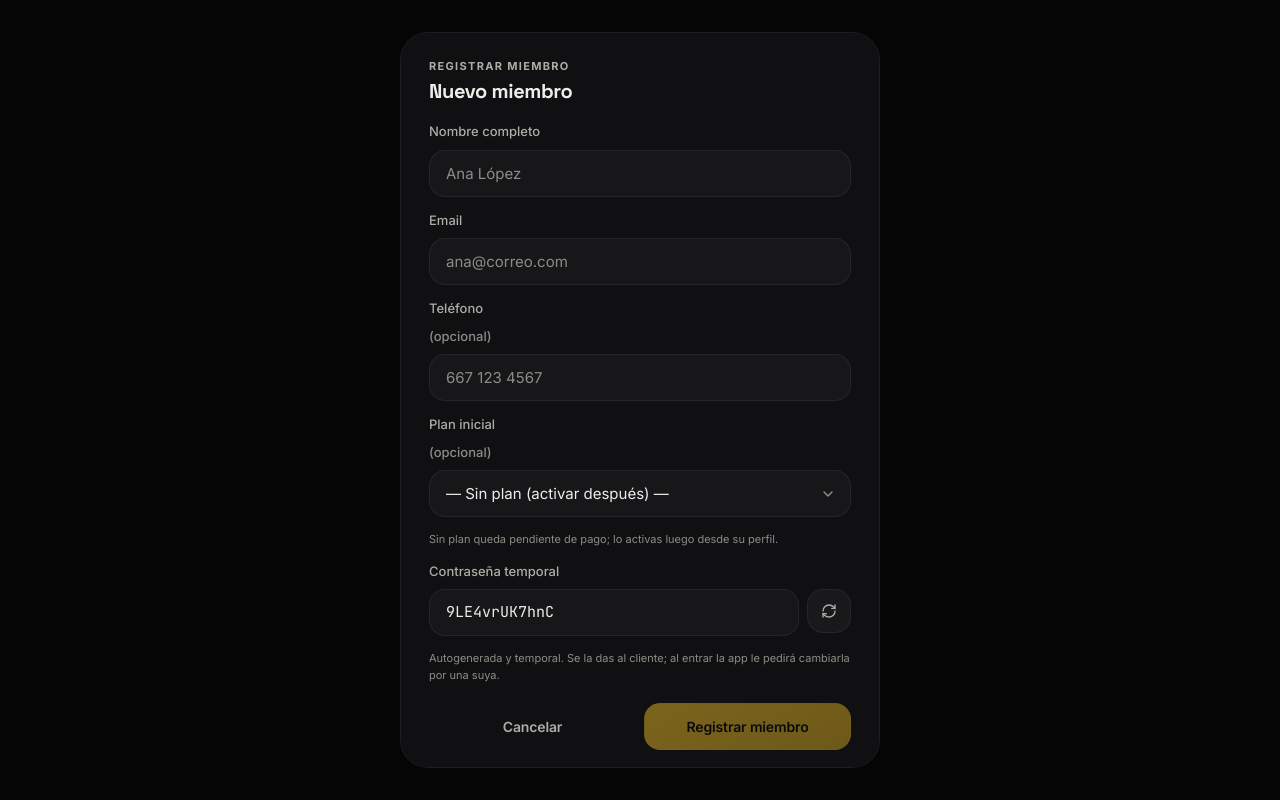
Test: RegistrarMiembroModal · wiring › submit deshabilitado hasta que nombre, email y password sean válidos
Expected: the button "Registrar miembro" is disabled, left=644, top=703, right=851, bottom=750
Type "A" into the field labelled "Nombre completo" at [640, 173], box left=429, top=150, right=851, bottom=196
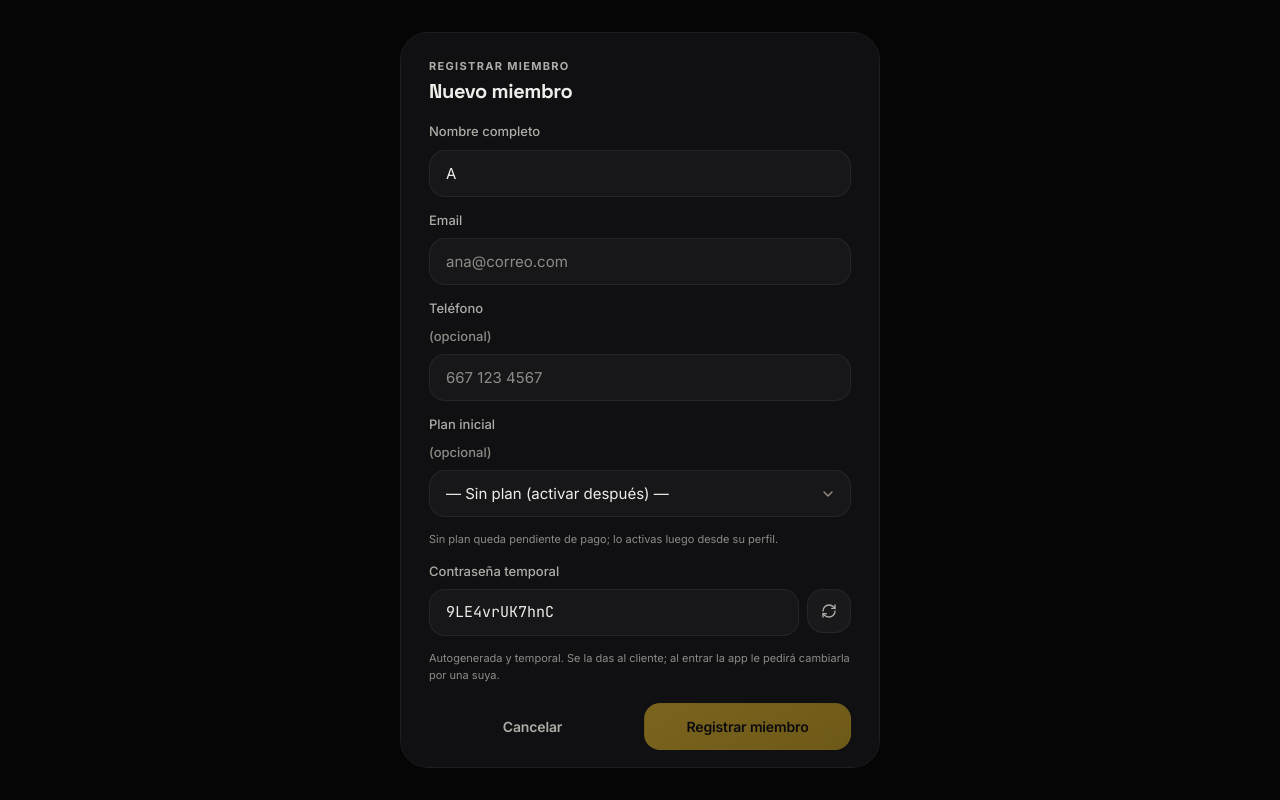
Type "correo-malo" into the field labelled "Email" at [640, 262], box left=429, top=238, right=851, bottom=285
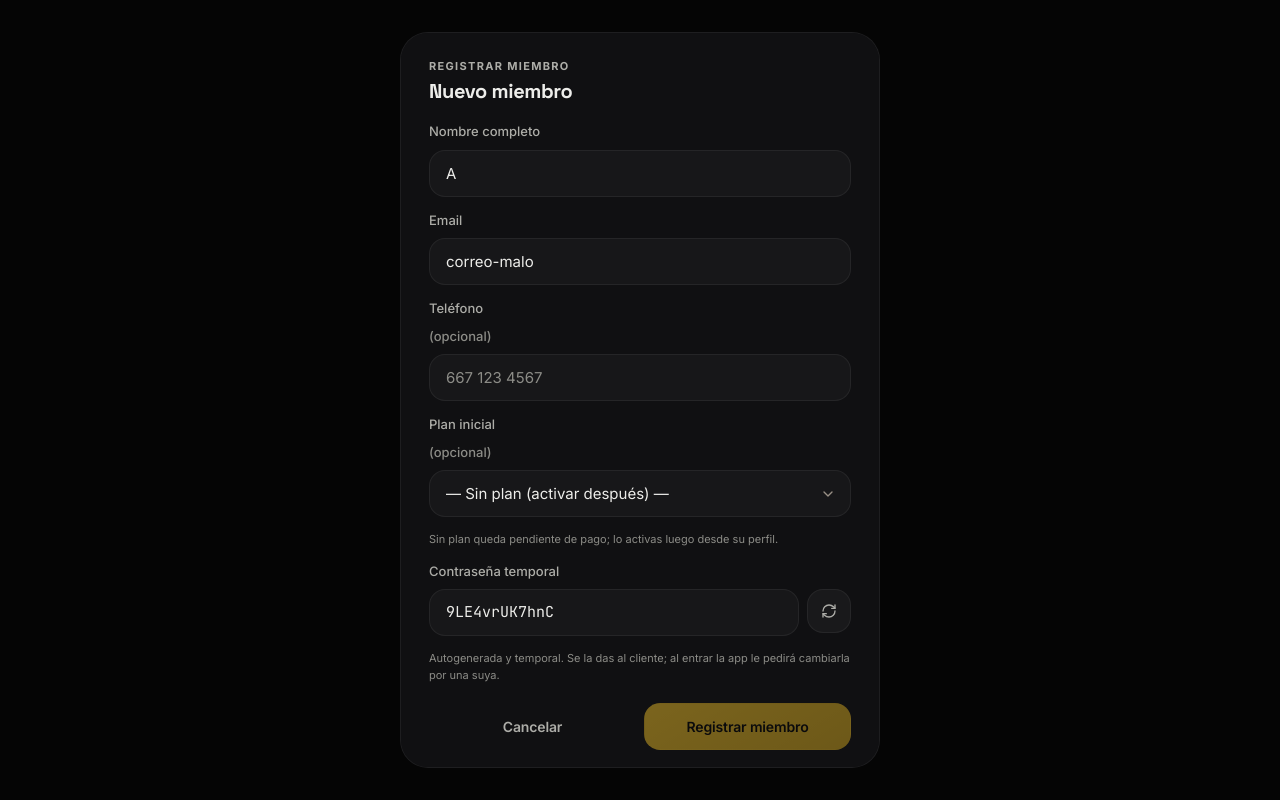
Expected: the button "Registrar miembro" is disabled, left=644, top=703, right=851, bottom=750
Replace the text in the field labelled "Nombre completo" with "Ana López" at [640, 173], box left=429, top=150, right=851, bottom=196
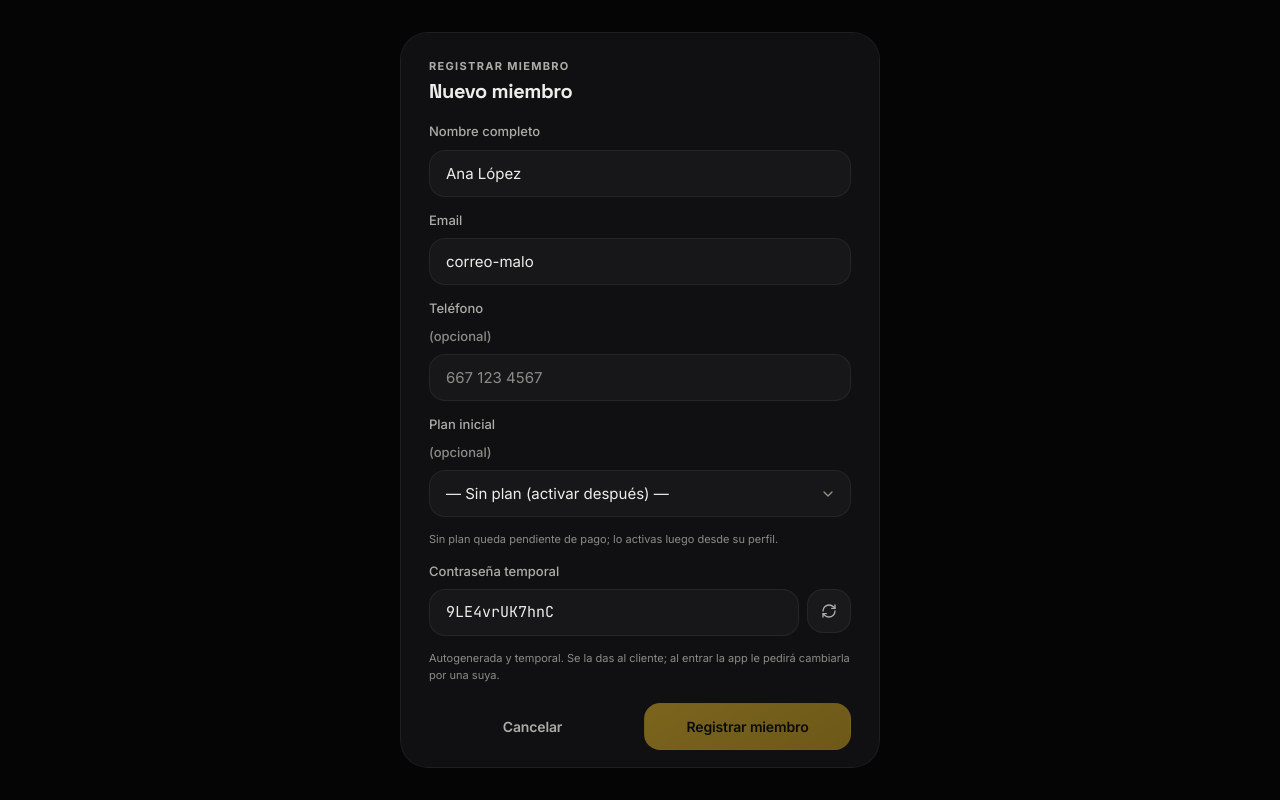
Replace the text in the field labelled "Email" with "ana@correo.com" at [640, 262], box left=429, top=238, right=851, bottom=285
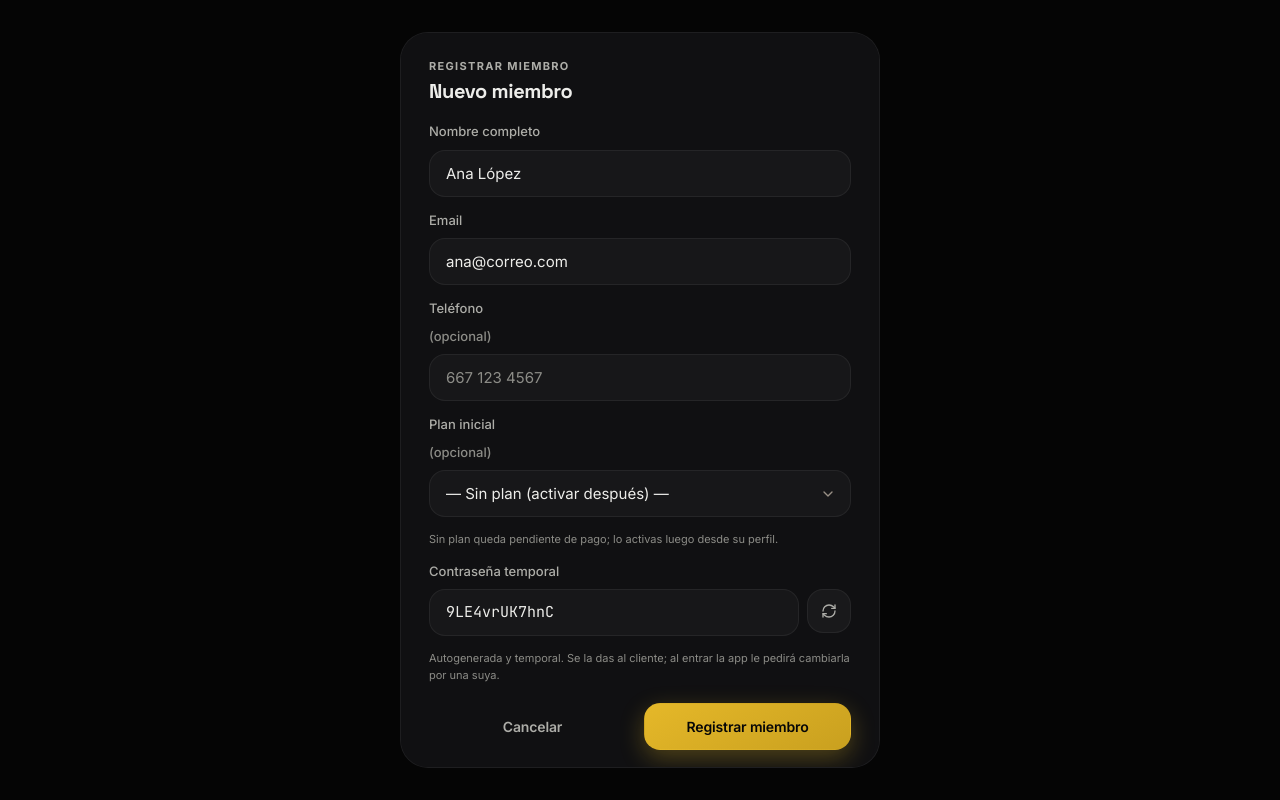
Result: the button "Registrar miembro" is enabled at left=644, top=703, right=851, bottom=750
Replace the text in the field labelled "Contraseña temporal" with "corta" at [614, 612], box left=429, top=589, right=799, bottom=636
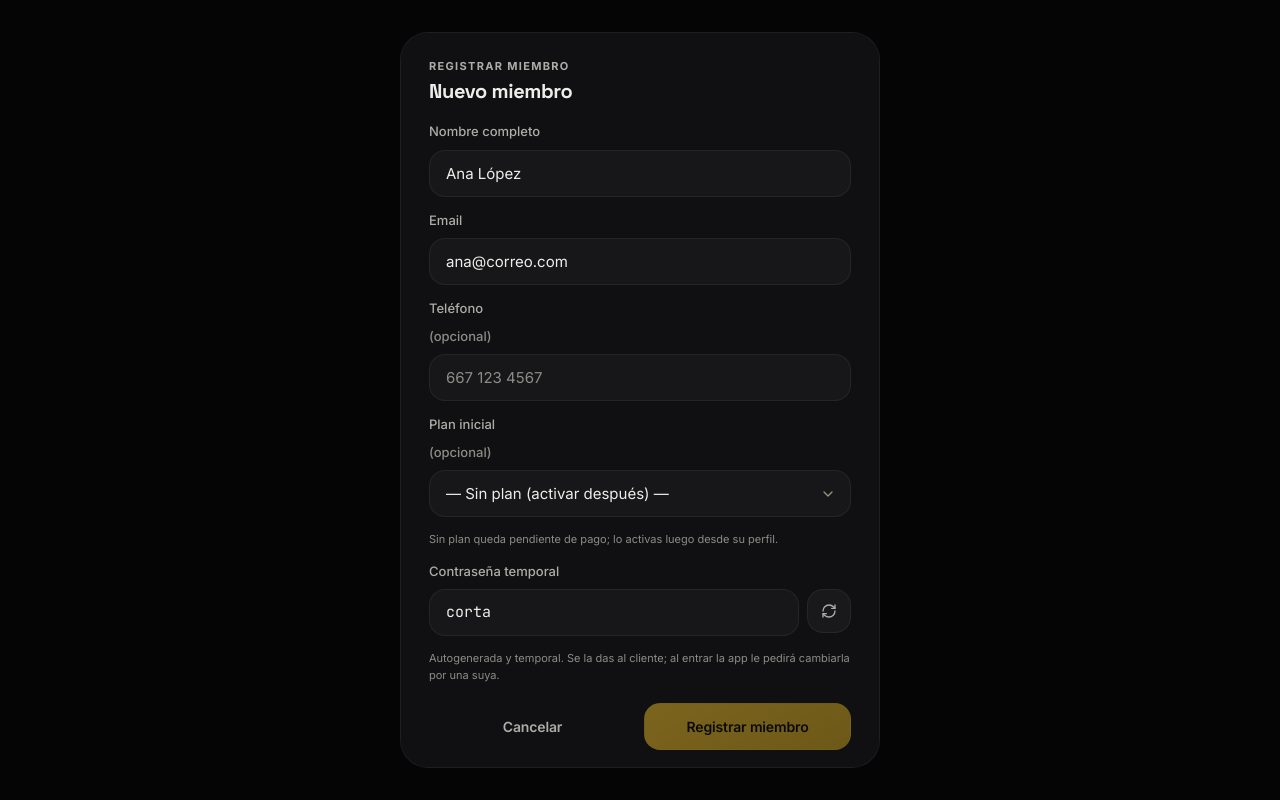
Result: the button "Registrar miembro" is disabled at left=644, top=703, right=851, bottom=750
